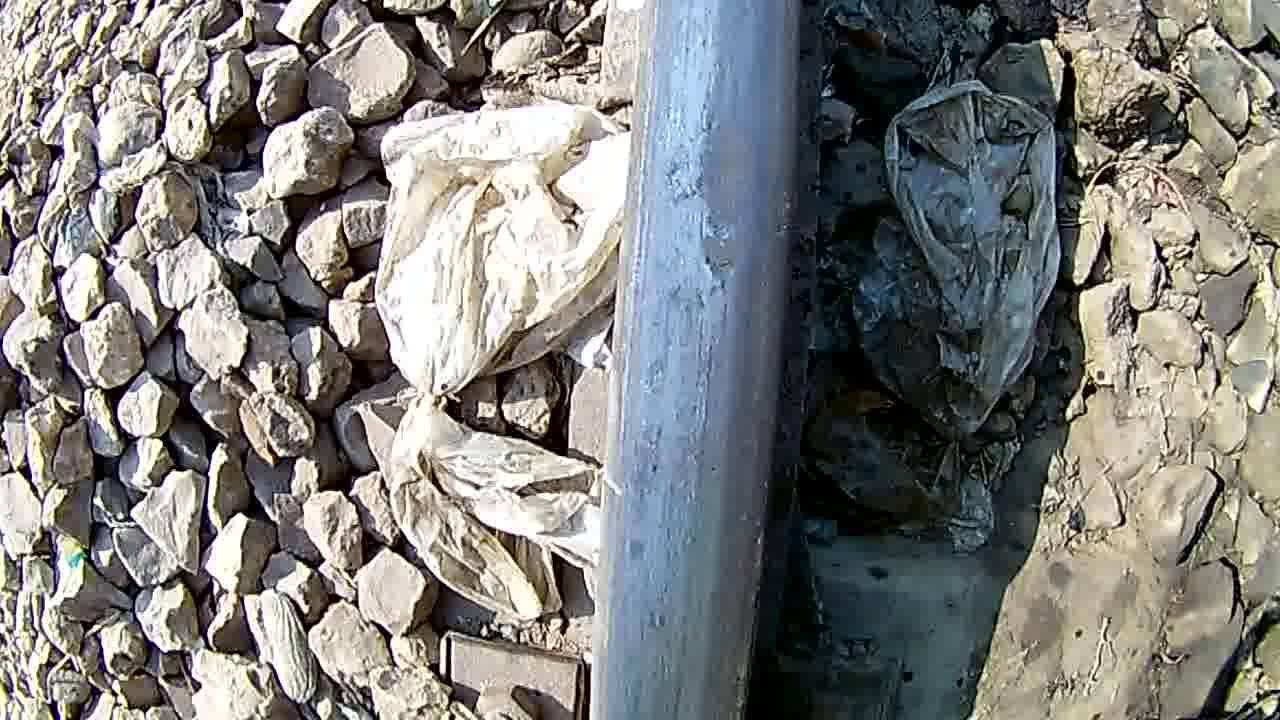bolt_missing: (632, 57, 787, 538)
